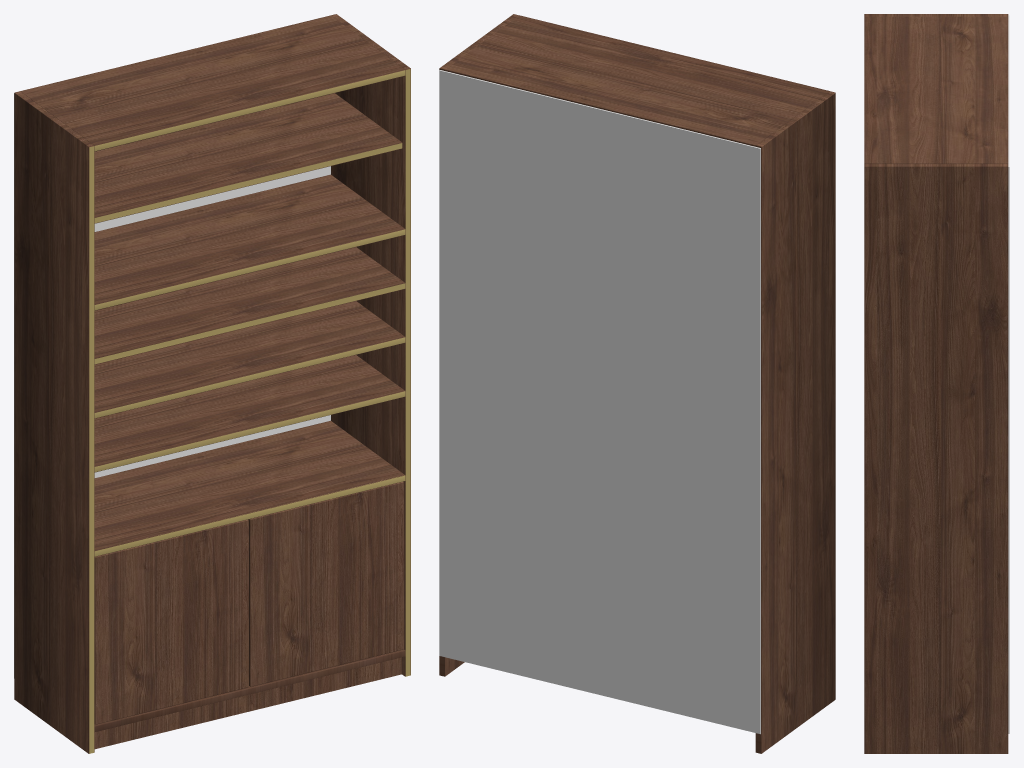
File: Szafka2.fbx
3 renders of one model, left to right at view 1: azimuth 30°, elevation 25°; view 2: azimuth 150°, elevation 25°; view 3: azimuth 270°, elevation 25°, orthographic. The views are drawn at different scales.
Parts seen in each view (by area): view 1: 1, 12, 13, 5, 10, 6, 11, 2, 9, 7, 8, 4 (+2 smaller); view 2: 0, 1, 5, 2; view 3: 2, 5, 0, 1.
Part boxes in pixels (x1,y1,x2,y2): 1: (14,91,94,753); 12: (94,519,248,724); 13: (248,481,403,686); 5: (20,15,405,151); 10: (94,174,405,310); 6: (94,420,405,556); 11: (94,93,402,223); 2: (331,14,410,676); 9: (94,247,405,364); 7: (94,355,405,472); 8: (94,301,405,418); 4: (94,657,401,749); 0: (439,70,760,734); 1: (755,91,835,753); 5: (445,15,829,146); 2: (439,14,518,676); 2: (864,163,1008,753); 5: (864,16,1008,163); 0: (1008,15,1009,733); 1: (864,14,1008,16).
Bounding box in the file's own units: 100 × 180 × 40.4.
3 materials, 2 textured.
